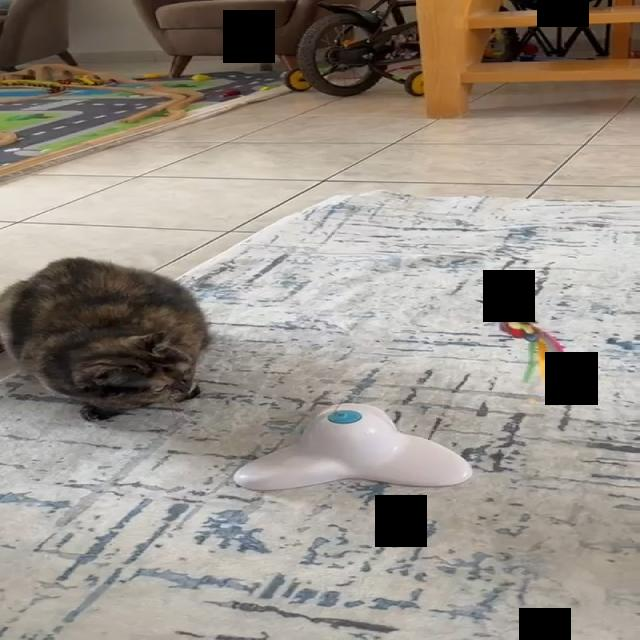authorized: (0, 256, 211, 422)
